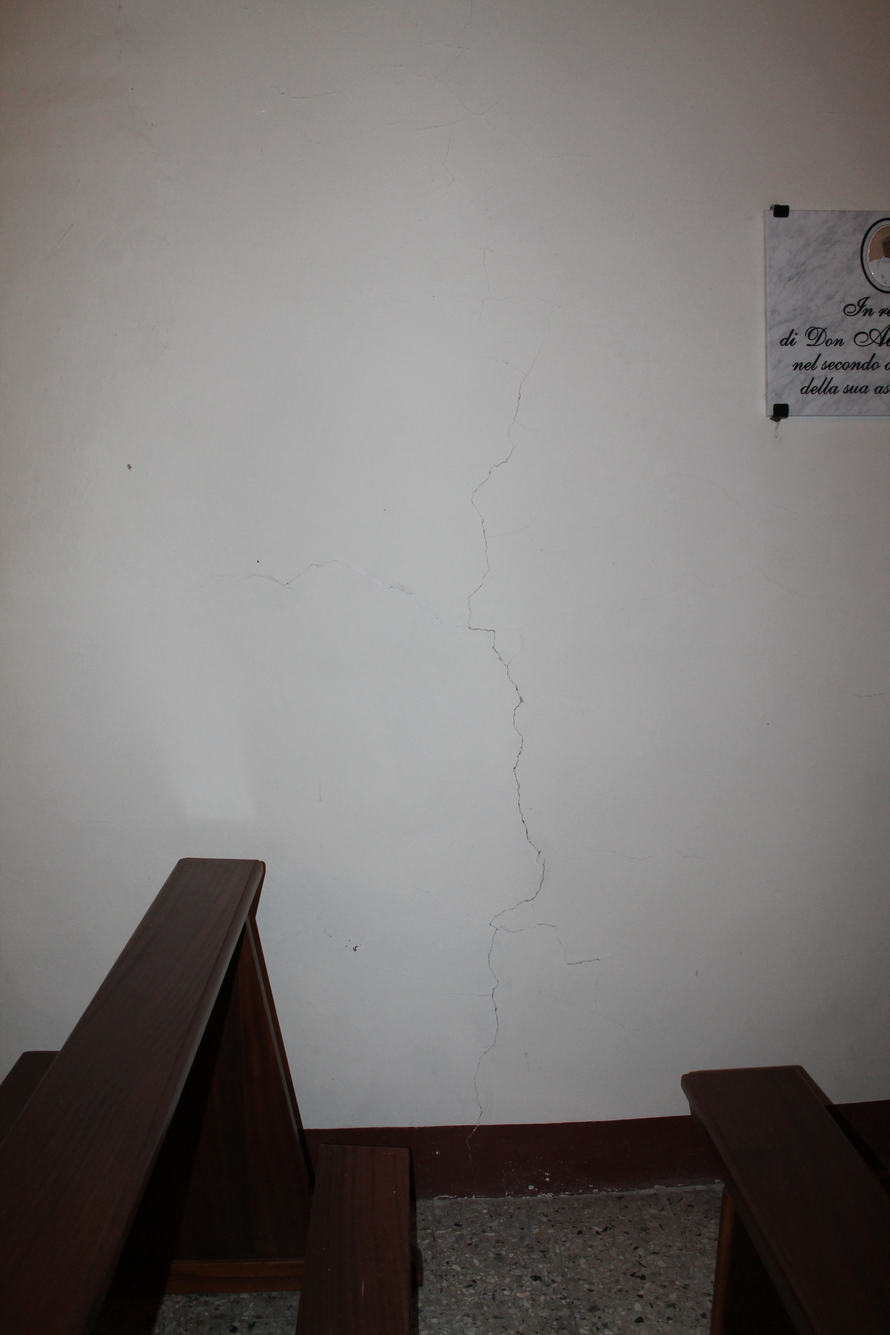Crack: (379, 166, 641, 1173)
